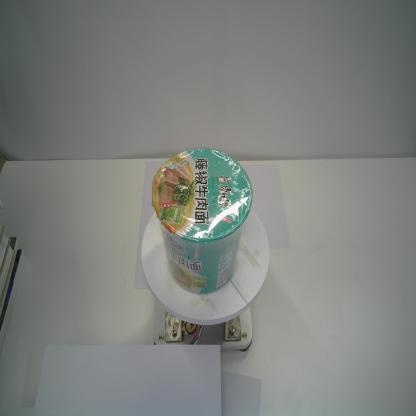Instant Noodles: (152, 146, 254, 294)
